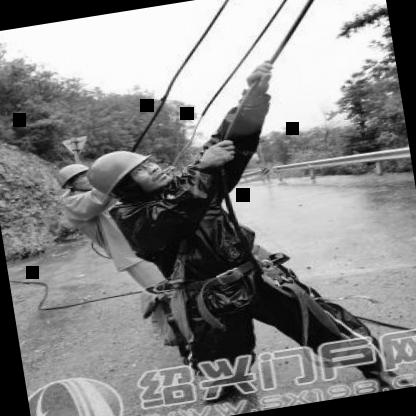helmet: (76, 139, 174, 209), (48, 159, 97, 201)
